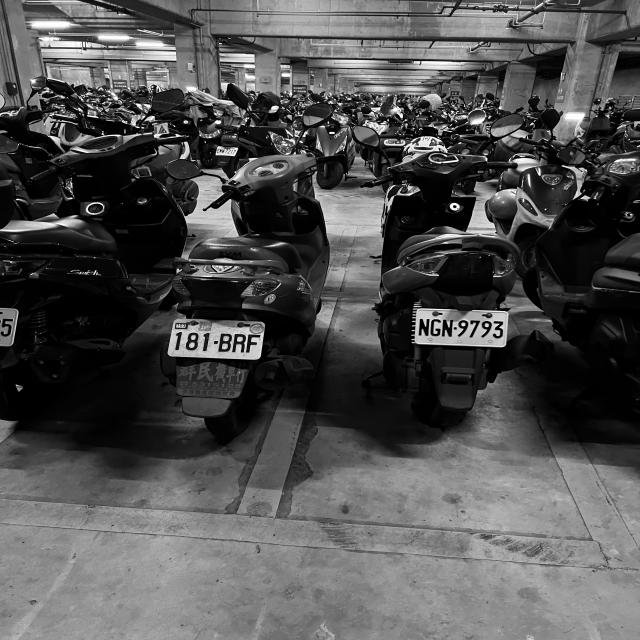-: (212, 339, 218, 345), (453, 326, 457, 330), (224, 151, 226, 152)
1: (174, 331, 182, 352), (202, 332, 210, 352), (230, 150, 233, 154)
2: (227, 150, 231, 154)
3: (493, 321, 503, 339)
5: (2, 318, 14, 338)
7: (469, 320, 481, 338), (232, 150, 237, 155), (225, 149, 229, 153)
8: (184, 332, 198, 352)
9: (457, 320, 469, 338), (481, 321, 492, 338)
B: (219, 332, 231, 352)
E: (216, 149, 220, 153)
F: (246, 333, 260, 353)
G: (430, 318, 440, 337)
M: (219, 149, 223, 154)
N: (418, 318, 430, 337), (442, 319, 454, 337)
R: (233, 332, 246, 354)
W: (221, 149, 225, 153)
plate: (173, 320, 262, 358), (418, 310, 507, 346)
